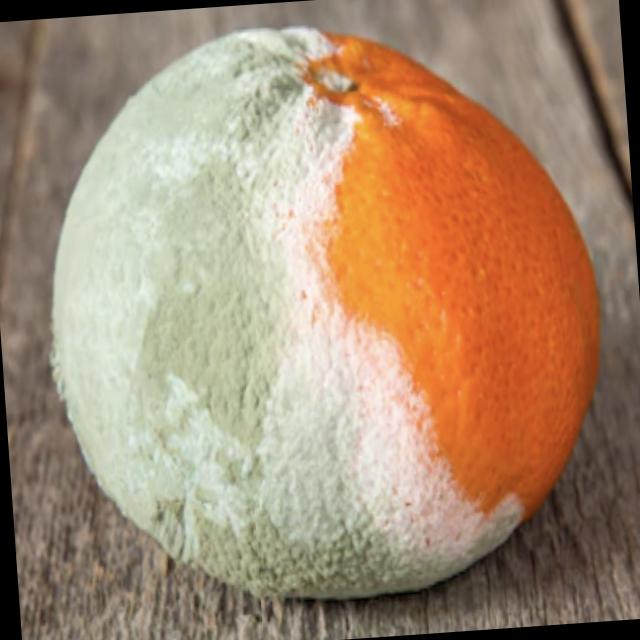rotten-orange: (27, 7, 618, 616)
